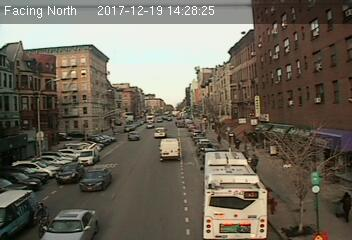bicycle: (34, 199, 53, 239)
bus: (201, 151, 269, 240)
car: (38, 206, 102, 240), (78, 167, 113, 192), (54, 163, 83, 185), (77, 148, 101, 166), (127, 131, 140, 141)
truck: (159, 136, 180, 161), (154, 127, 166, 138)
